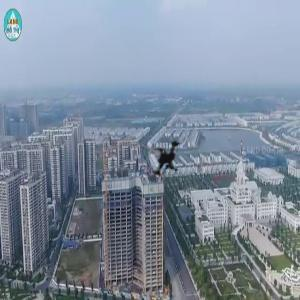drone: (123, 104, 243, 224)
